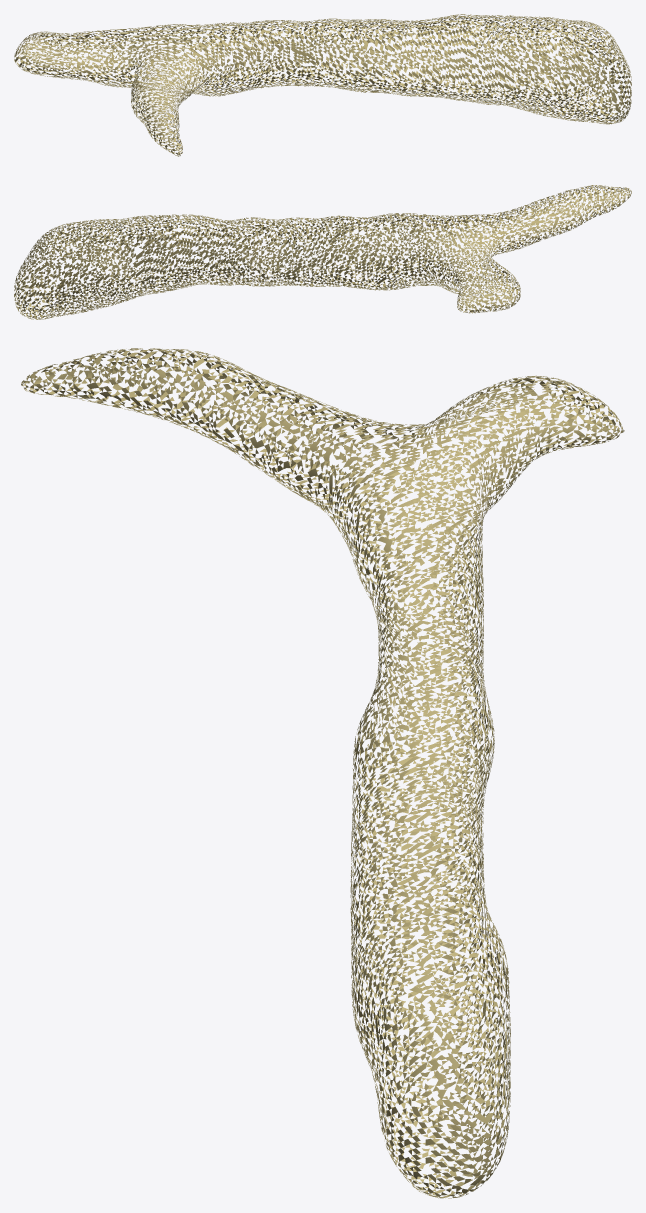
File: morph_008.glb
3 renders of one model, top to bottom at view 1: azimuth 30°, elevation 25°; view 2: azimuth 150°, elevation 25°; view 3: azimuth 270°, elevation 25°, orthographic. The views are drawn at different scales.
Size of the model in its own units: 133 by 47.23 by 67.13.
